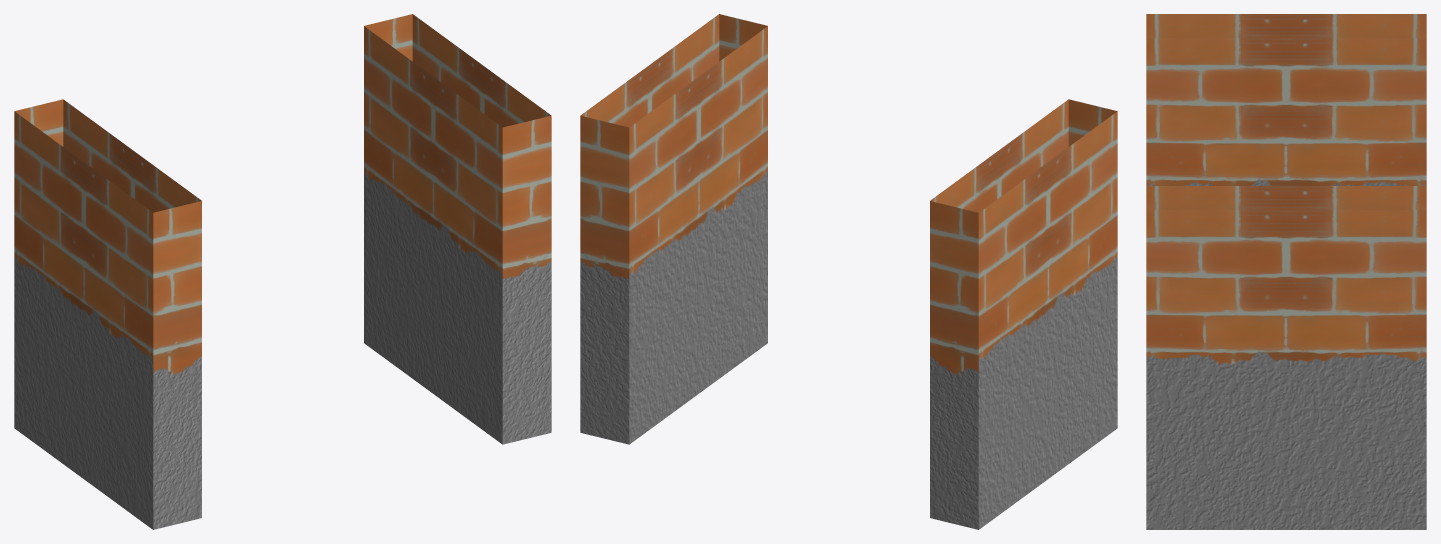
Rendered from Stone_Sink_Support_02.fbx.
3 views of the same model, side by side, from view 1: azimuth 30°, elevation 25°; view 2: azimuth 150°, elevation 25°; view 3: azimuth 270°, elevation 25° (orthographic).
Parts seen in each view (by area): view 1: Stone_Sink_Support_02; view 2: Stone_Sink_Support_02; view 3: Stone_Sink_Support_02.
Part boxes in pixels (<box>): Stone_Sink_Support_02: <box>14,14,551,529</box>; Stone_Sink_Support_02: <box>580,14,1117,529</box>; Stone_Sink_Support_02: <box>1146,14,1426,529</box>.
Size of the model in its own units: 124 by 94 by 74.59.
